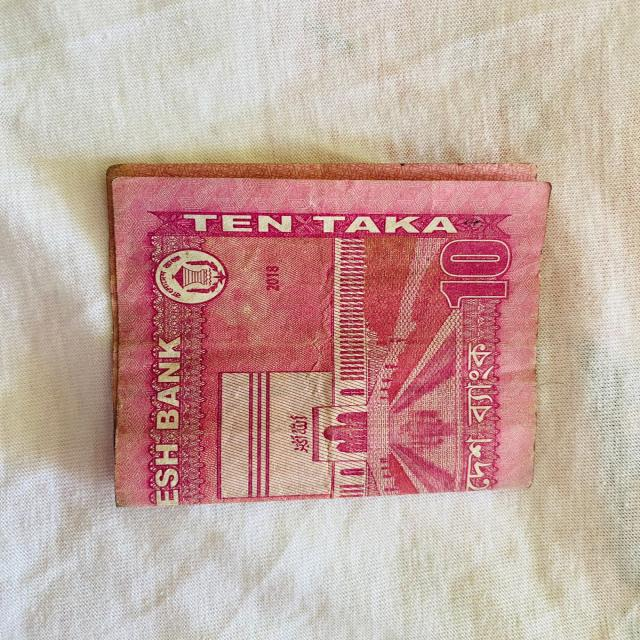Taka: (103, 143, 548, 508)
